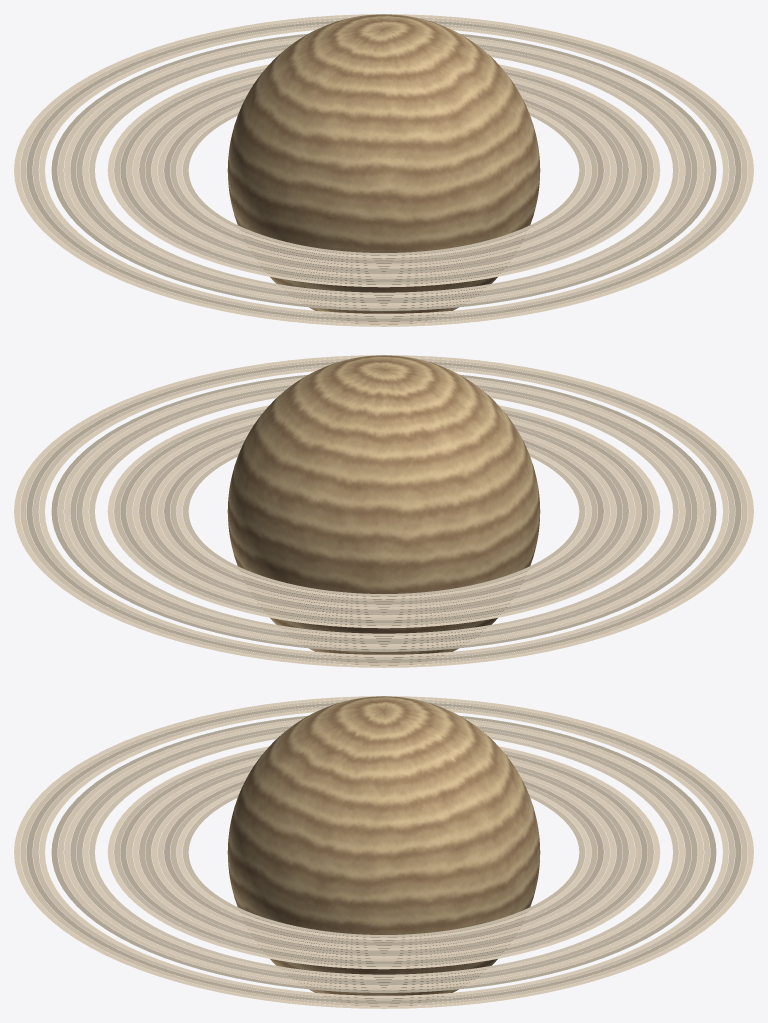
Rendered from saturn.glb.
The picture shows the model from 3 angles, top to bottom: view 1: azimuth 30°, elevation 25°; view 2: azimuth 150°, elevation 25°; view 3: azimuth 270°, elevation 25°; orthographic projection.
Size of the model in its own units: 4.74 by 2 by 4.74.
2 materials, 1 textured.
